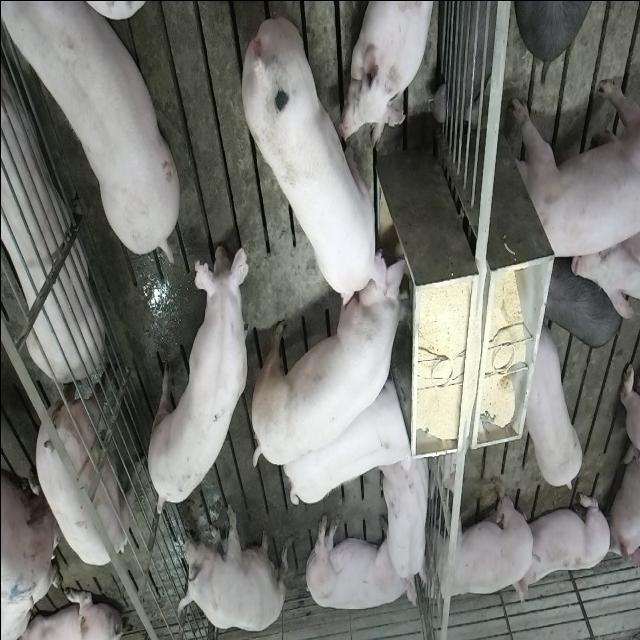Feeding: (238, 14, 392, 308), (253, 243, 417, 468)
Lateral_lying: (302, 512, 418, 612)
Sitting: (175, 502, 286, 632)
Standing: (5, 0, 182, 259), (144, 228, 246, 510), (511, 74, 638, 258), (24, 365, 133, 565), (282, 378, 412, 510), (420, 471, 534, 609), (524, 325, 586, 494), (542, 252, 622, 348)
Sternal_lying: (343, 0, 438, 146), (517, 484, 613, 605), (378, 444, 433, 594)
